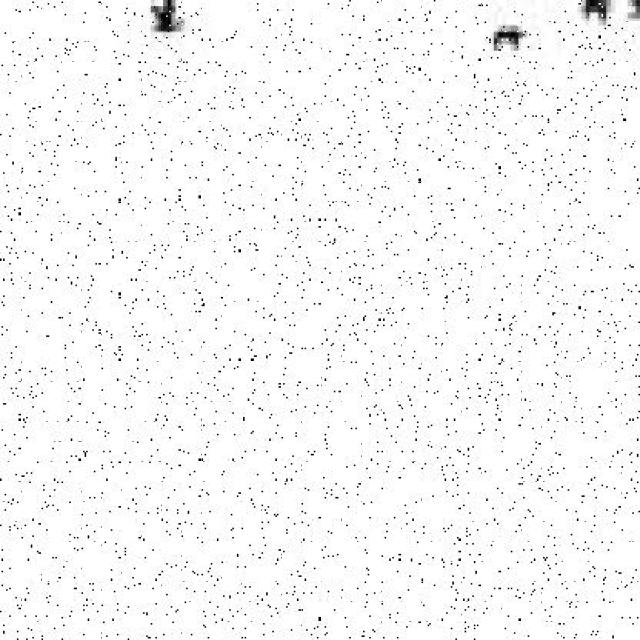bird: (140, 0, 206, 44), (480, 18, 551, 51), (576, 0, 618, 34)
